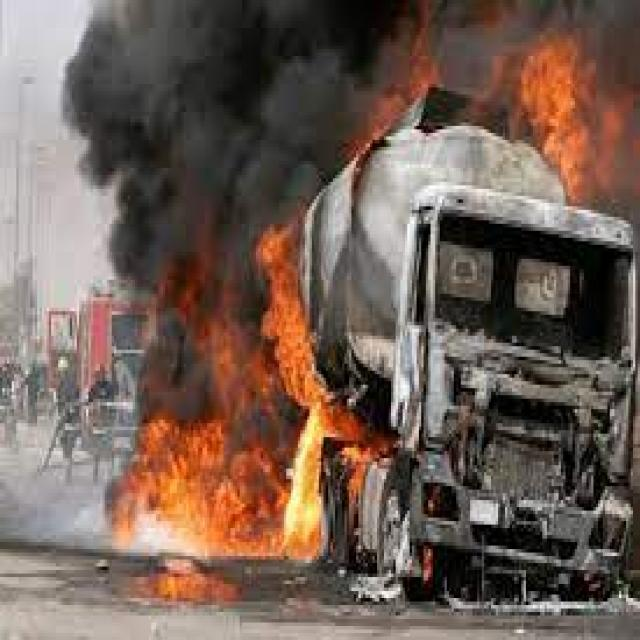fire: (105, 234, 365, 570), (519, 32, 635, 206)
smoke: (49, 3, 419, 224), (60, 3, 216, 420)
